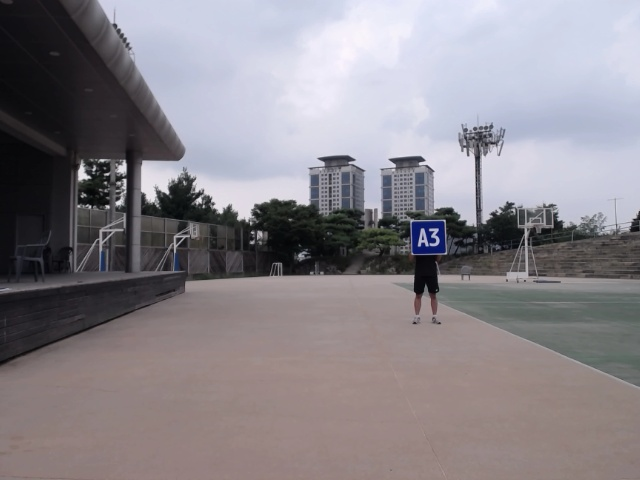delivery_a3: (410, 220, 447, 255)
